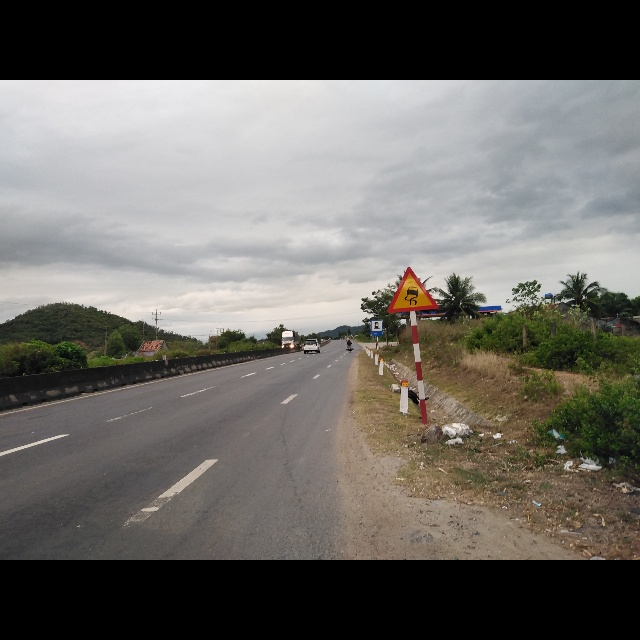Đường trơn trượt: (385, 264, 437, 314)
